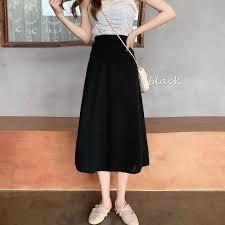skirt: (67, 31, 167, 186)
